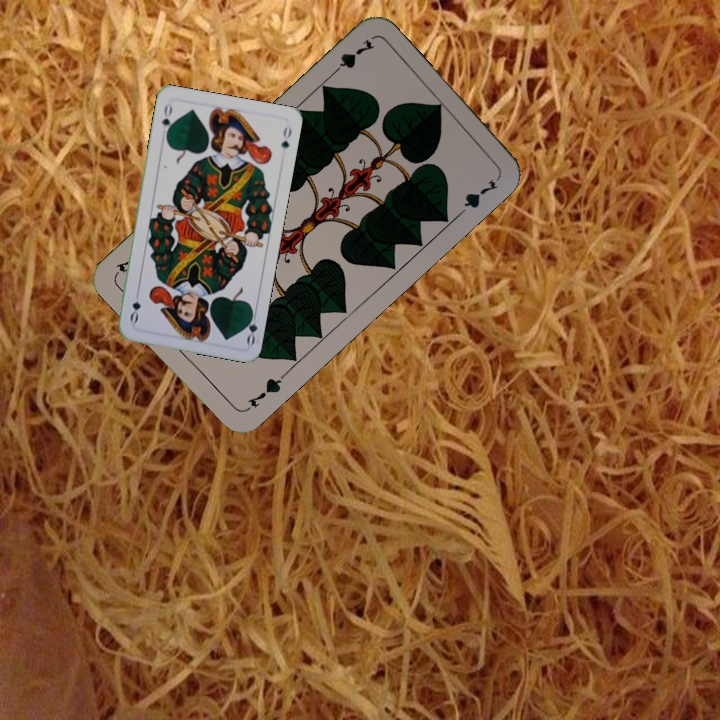G7: (326, 35, 377, 80), (240, 370, 288, 415)
GO: (240, 306, 260, 347), (158, 100, 175, 140)
